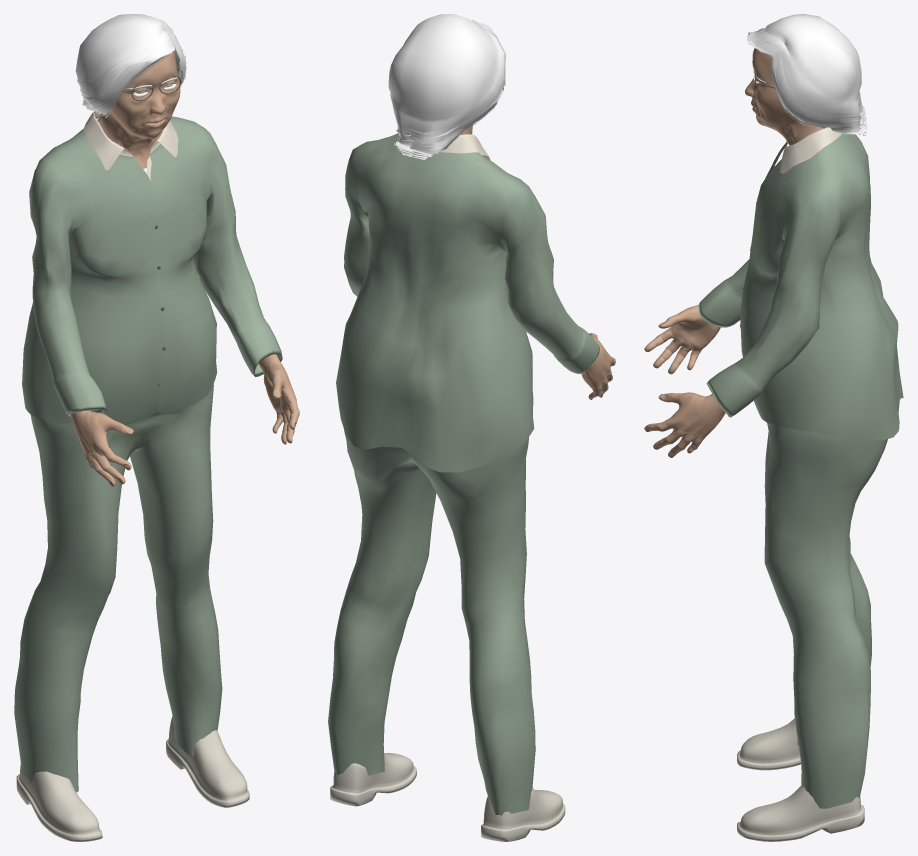
Rendered from elder-woman.glb.
3 views of the same model, side by side, from view 1: azimuth 30°, elevation 25°; view 2: azimuth 150°, elevation 25°; view 3: azimuth 270°, elevation 25° (orthographic).
Visible parts, largest first — view 1: CC0 fitted clothes/male_casualsuit03/male_casualsuit03, smooth human anatomy with per-corner UV seams, CC0 fitted clothes/shoes04/shoes04, CC0 fitted hair/braid01/braid01, reference fitted original CC0 ivory collar; view 2: CC0 fitted clothes/male_casualsuit03/male_casualsuit03, CC0 fitted hair/braid01/braid01, CC0 fitted clothes/shoes04/shoes04, smooth human anatomy with per-corner UV seams, reference fitted original CC0 ivory collar; view 3: CC0 fitted clothes/male_casualsuit03/male_casualsuit03, CC0 fitted hair/braid01/braid01, smooth human anatomy with per-corner UV seams, CC0 fitted clothes/shoes04/shoes04, reference fitted original CC0 ivory collar.
Boxes of the visible parts, x1,y1,x2,y2 form: CC0 fitted clothes/male_casualsuit03/male_casualsuit03: [14, 116, 282, 792]; smooth human anatomy with per-corner UV seams: [70, 51, 299, 486]; CC0 fitted clothes/shoes04/shoes04: [16, 716, 249, 841]; CC0 fitted hair/braid01/braid01: [75, 14, 186, 117]; reference fitted original CC0 ivory collar: [83, 111, 178, 170]; CC0 fitted clothes/male_casualsuit03/male_casualsuit03: [328, 133, 599, 815]; CC0 fitted hair/braid01/braid01: [388, 14, 505, 159]; CC0 fitted clothes/shoes04/shoes04: [330, 753, 565, 841]; smooth human anatomy with per-corner UV seams: [460, 124, 615, 399]; reference fitted original CC0 ivory collar: [396, 129, 490, 160]; CC0 fitted clothes/male_casualsuit03/male_casualsuit03: [698, 133, 903, 808]; CC0 fitted hair/braid01/braid01: [747, 14, 867, 136]; smooth human anatomy with per-corner UV seams: [644, 48, 824, 457]; CC0 fitted clothes/shoes04/shoes04: [737, 718, 864, 841]; reference fitted original CC0 ivory collar: [780, 127, 842, 173].
Size of the model in its own units: 0.476 by 1.65 by 0.4961.
